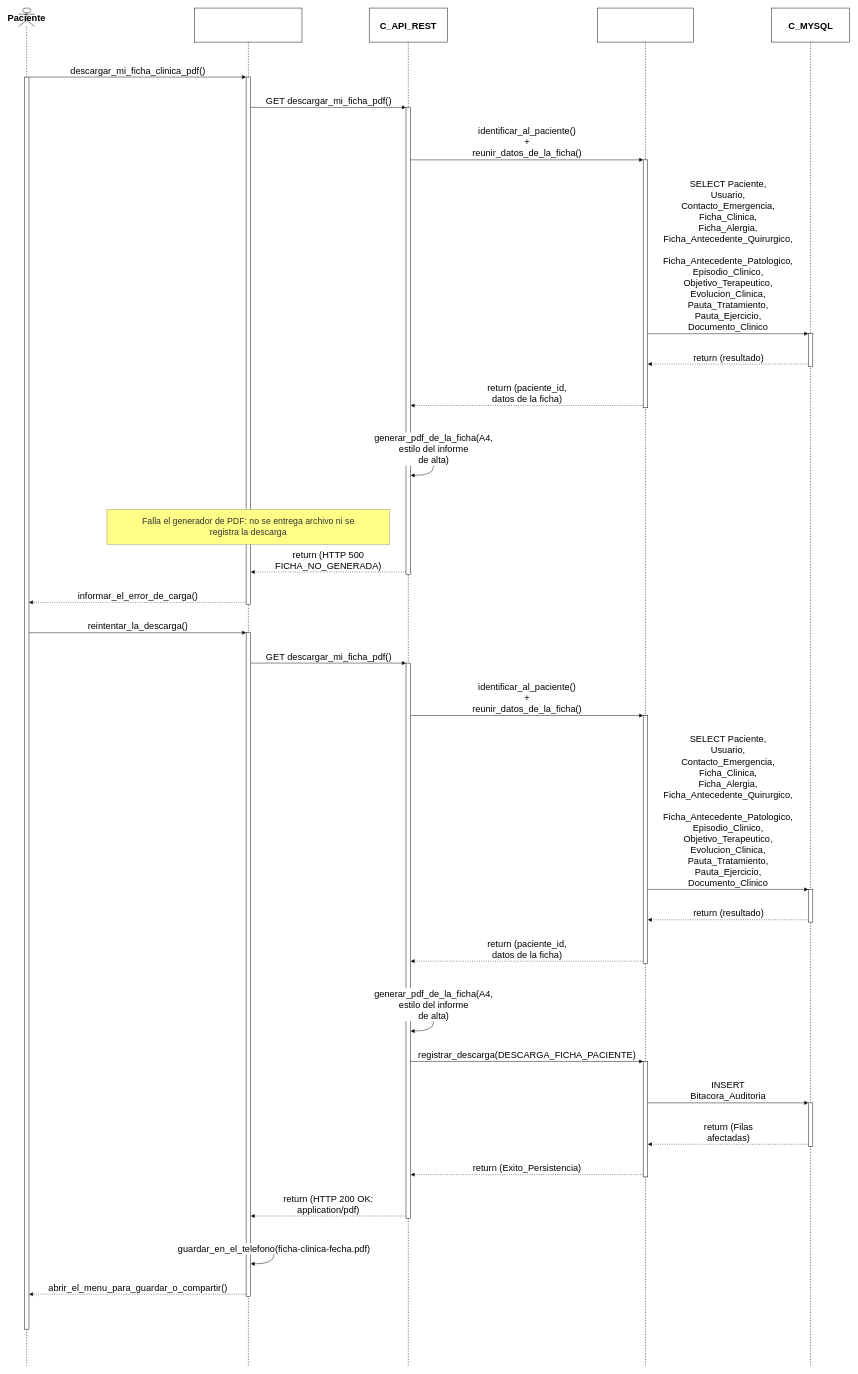
This 858x1374 diagram has some shape labels left out. The shapes that lost their labels are listed below. From the top down, each one's box as (x1, y1, x2, y2) in pixels, then its label:
(194, 8, 302, 1366): V_Mis_Documentos
(597, 8, 693, 1366): C_Capa_de_ Acceso_a_Datos
